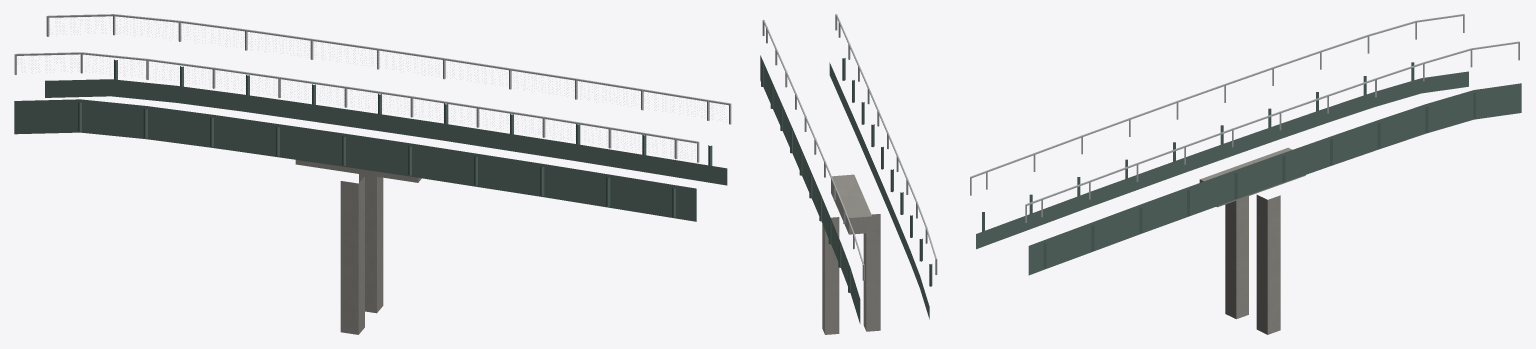
Rendered from bridge-ralph-mcgill.glb.
3 views of the same model, side by side, from view 1: azimuth 30°, elevation 25°; view 2: azimuth 150°, elevation 25°; view 3: azimuth 270°, elevation 25° (orthographic). The views are drawn at different scales.
Visible parts, largest first — view 1: bridge-ralph-mcgill_lod0; view 2: bridge-ralph-mcgill_lod0; view 3: bridge-ralph-mcgill_lod0.
Part boxes in pixels (x1,y1,x2,y2): bridge-ralph-mcgill_lod0: [14, 14, 731, 334]; bridge-ralph-mcgill_lod0: [760, 14, 937, 334]; bridge-ralph-mcgill_lod0: [970, 14, 1521, 334].
Size of what is drawn, in the model's own units: 23.15 by 11.72 by 26.2.
4 materials, 2 textured.
